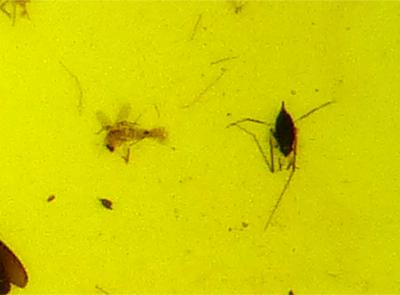Hemiptera: (242, 100, 300, 195)
Nematocera: (100, 113, 169, 155)
